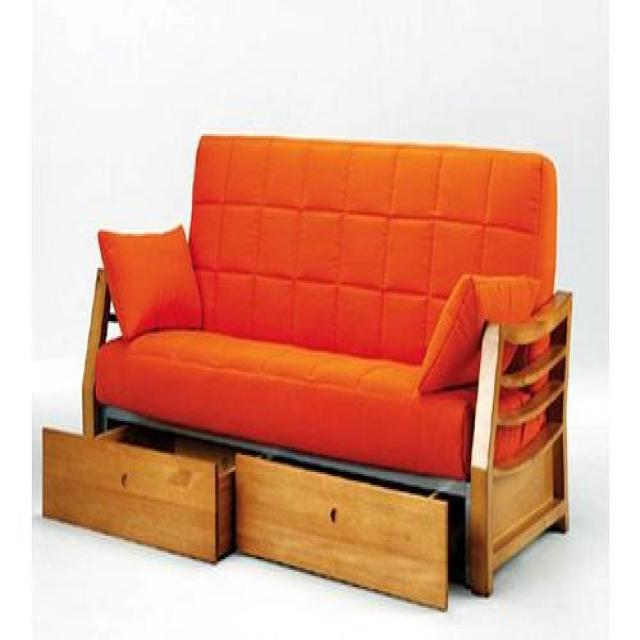sofa: (39, 133, 574, 615)
